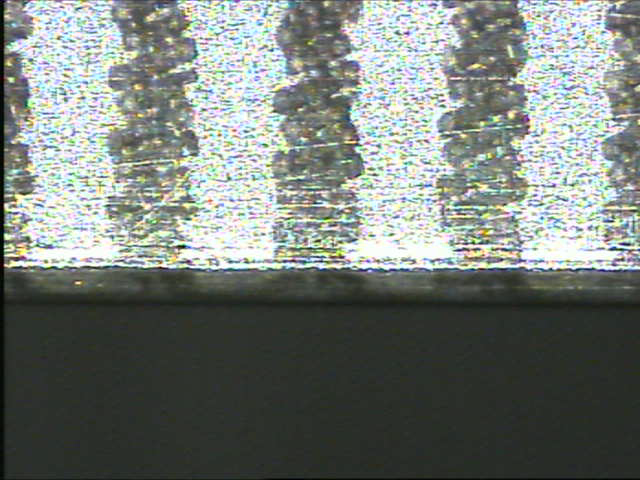line: (434, 1, 533, 271), (103, 1, 201, 268), (270, 1, 367, 268)
